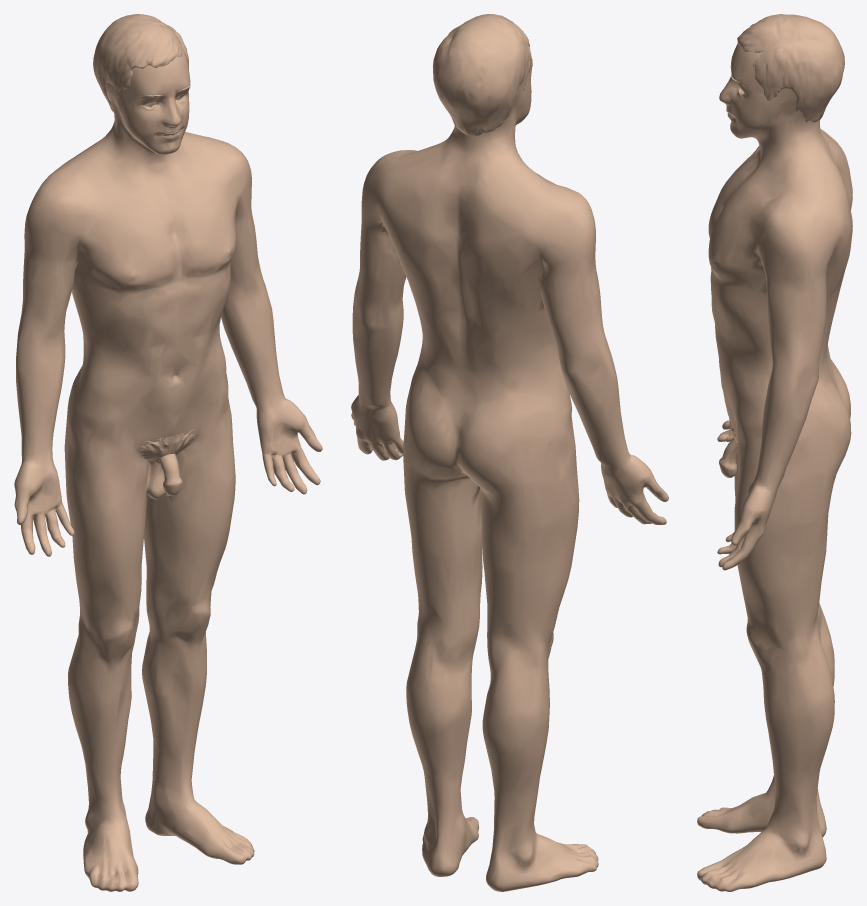
Rendered from kulit.glb.
The picture shows the model from 3 angles, left to right: view 1: azimuth 30°, elevation 25°; view 2: azimuth 150°, elevation 25°; view 3: azimuth 270°, elevation 25°; orthographic projection. The views are drawn at different scales.
Parts seen in each view (by area): view 1: Skin, Hair of head, Pubic hair; view 2: Skin, Hair of head; view 3: Skin, Hair of head.
Boxes of the visible parts, x1=… form: Skin: x1=14, y1=47, x2=322, y2=891; Hair of head: x1=93, y1=14, x2=188, y2=111; Pubic hair: x1=140, y1=429, x2=195, y2=461; Skin: x1=351, y1=53, x2=668, y2=891; Hair of head: x1=432, y1=14, x2=530, y2=135; Skin: x1=697, y1=44, x2=852, y2=891; Hair of head: x1=737, y1=14, x2=844, y2=122.
Bounding box in the file's own units: 0.771 × 2 × 0.3377.
